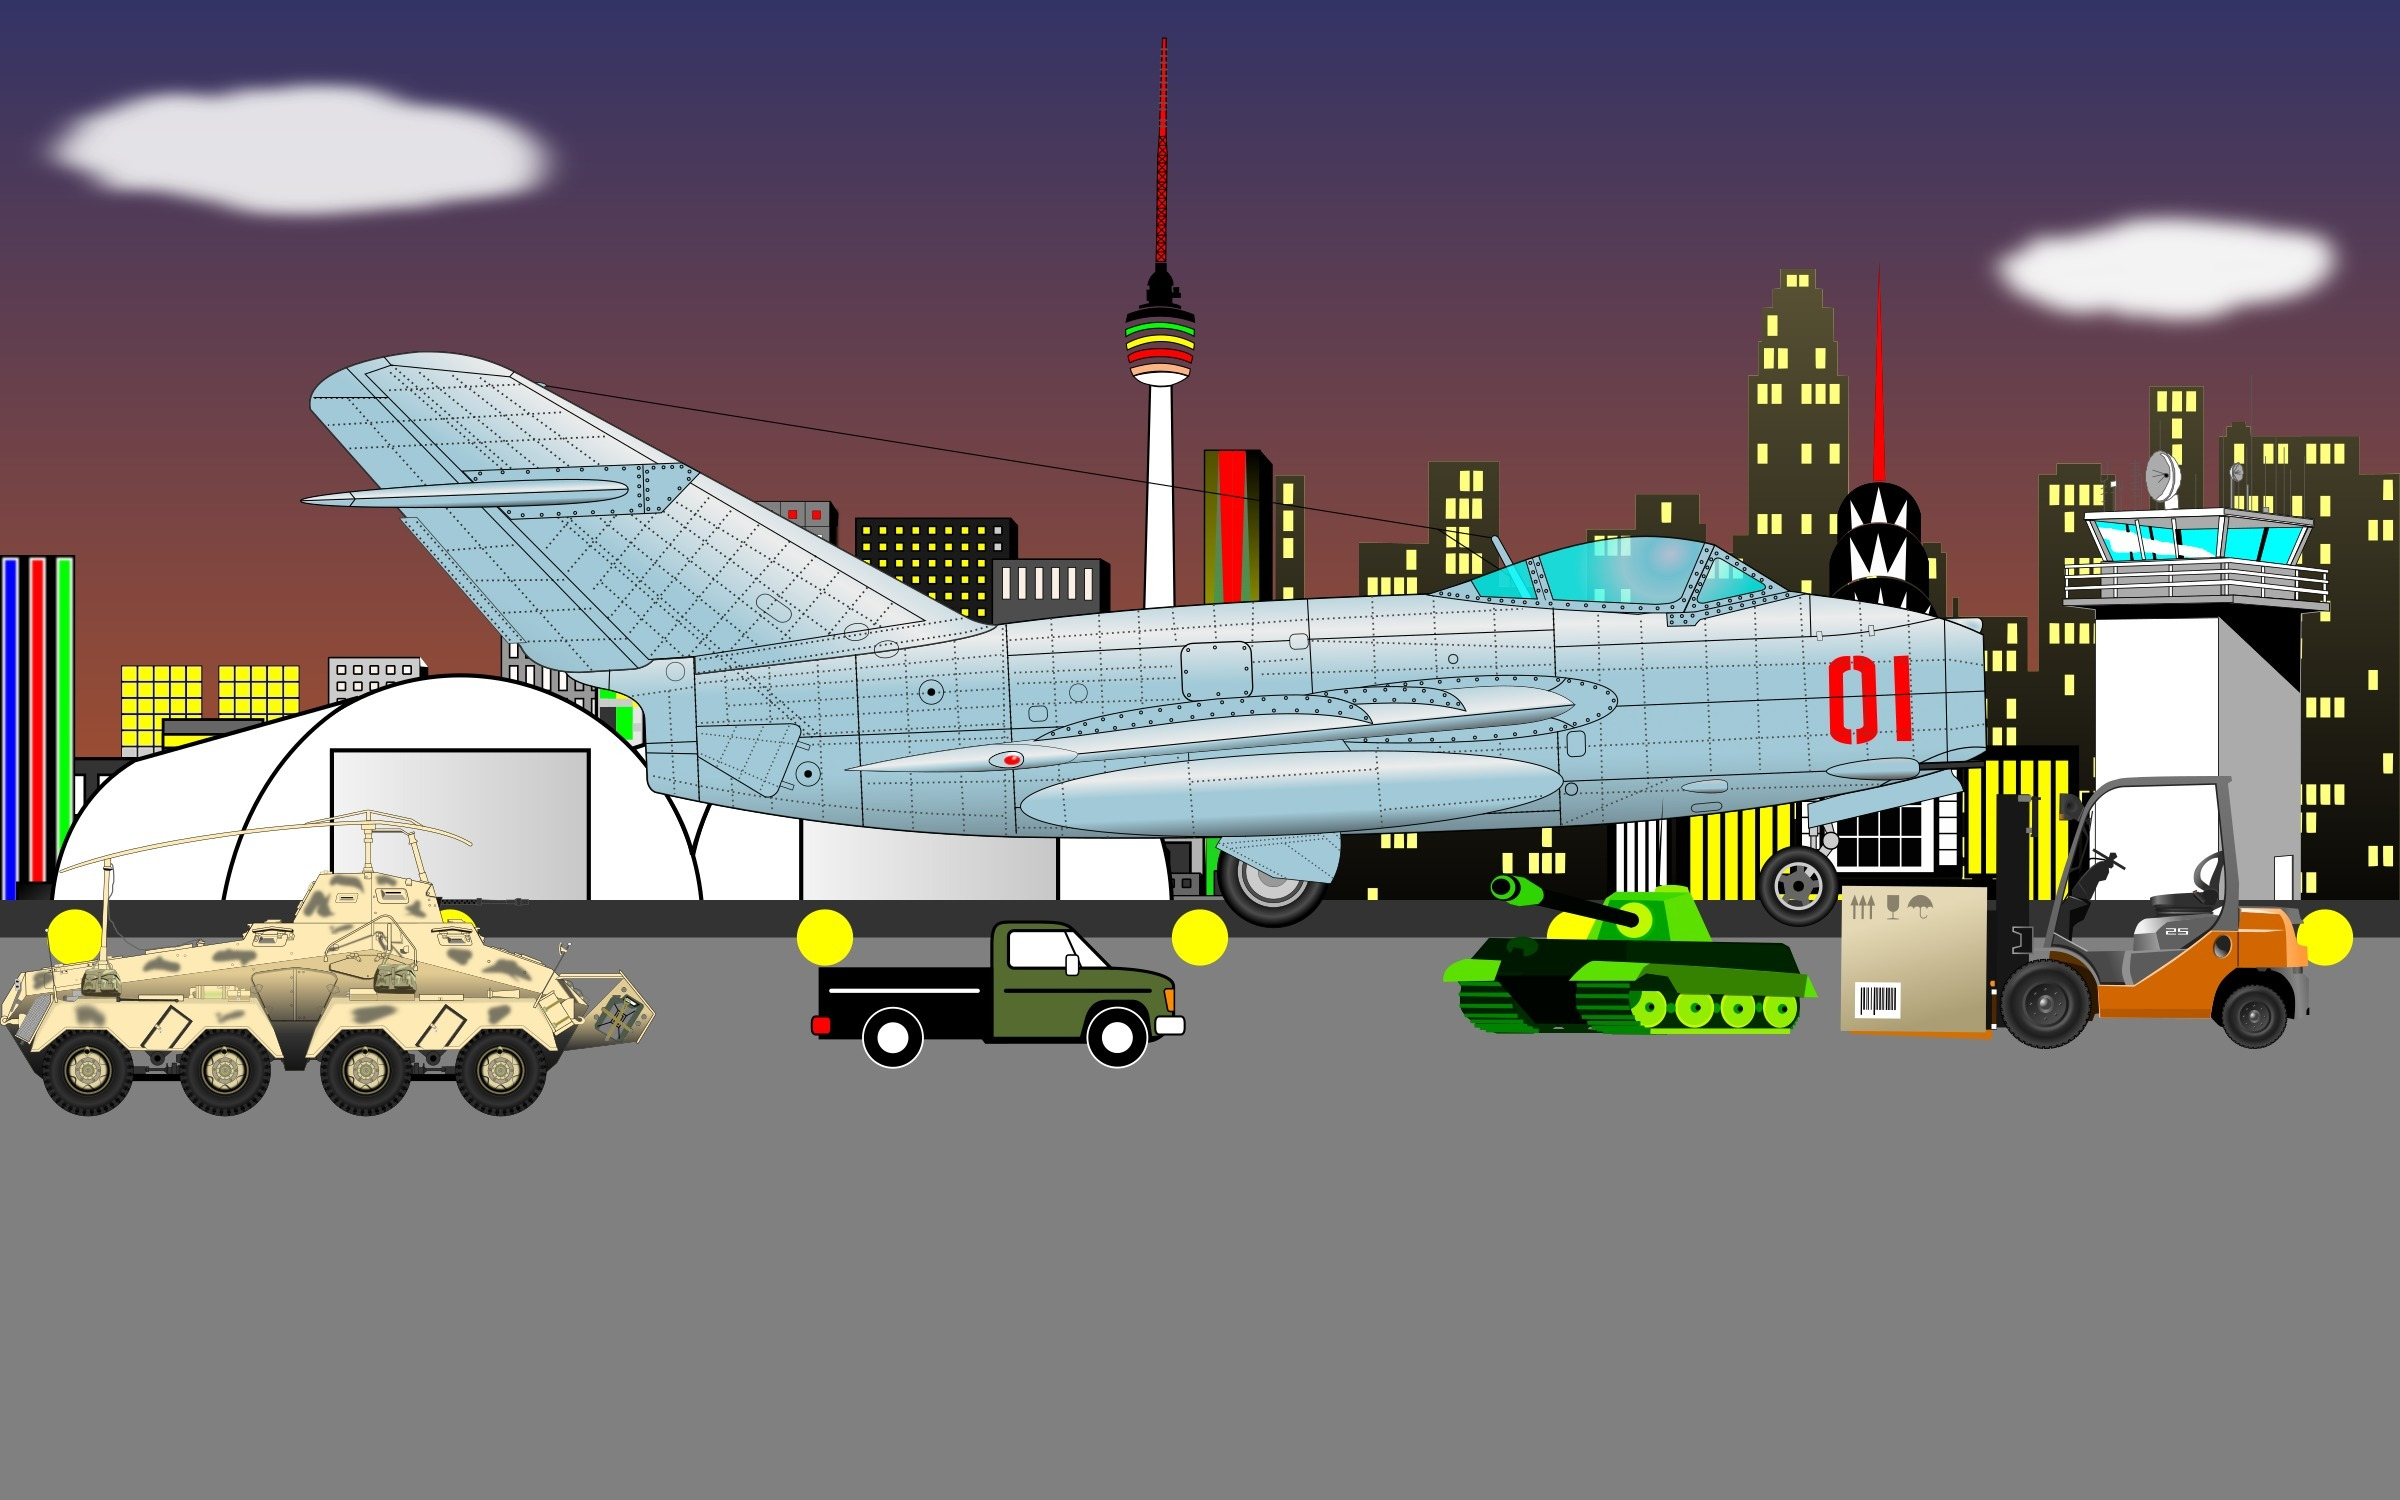aeroplane: (256, 315, 2003, 930)
car: (10, 855, 655, 1120), (1996, 750, 2341, 1063), (783, 895, 1190, 1090), (1417, 852, 1807, 1051)
